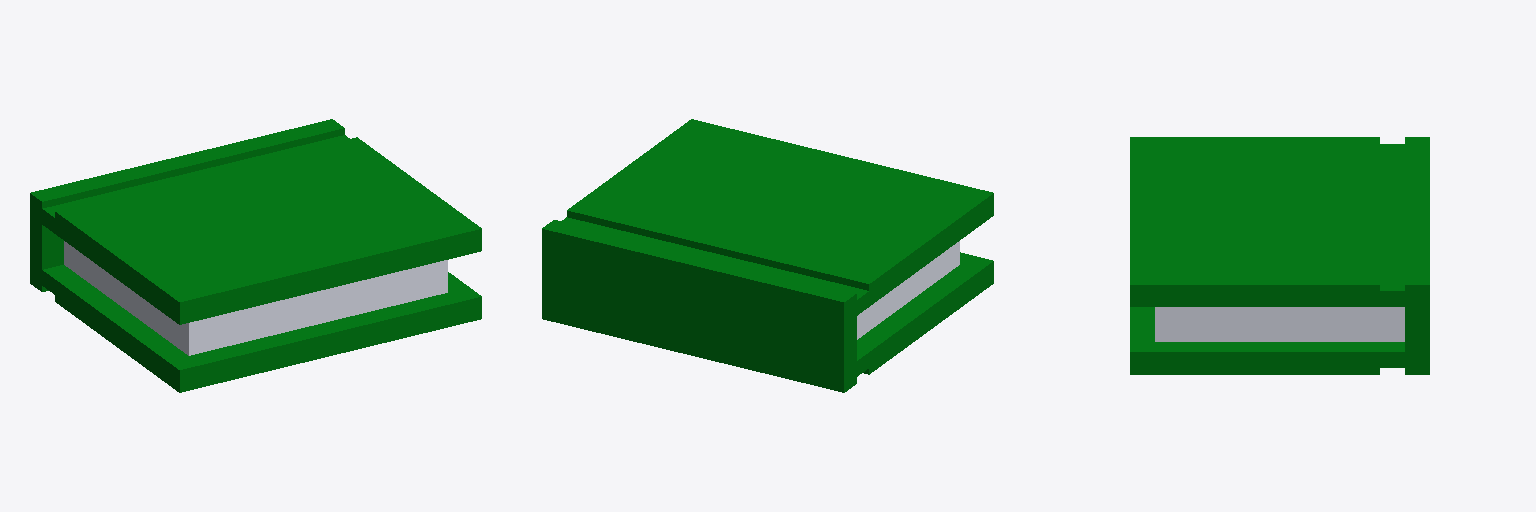
Rendered from Book3.obj.
3 renders of one model, left to right at view 1: azimuth 30°, elevation 25°; view 2: azimuth 150°, elevation 25°; view 3: azimuth 270°, elevation 25°, orthographic.
Parts seen in each view (by area): view 1: block; view 2: block; view 3: block.
Part boxes in pixels (x1,y1,x2,y2): block: (30, 119, 481, 392); block: (542, 119, 993, 392); block: (1130, 137, 1429, 374).
Bounding box in the file's own units: 0.56 × 0.16 × 0.48.